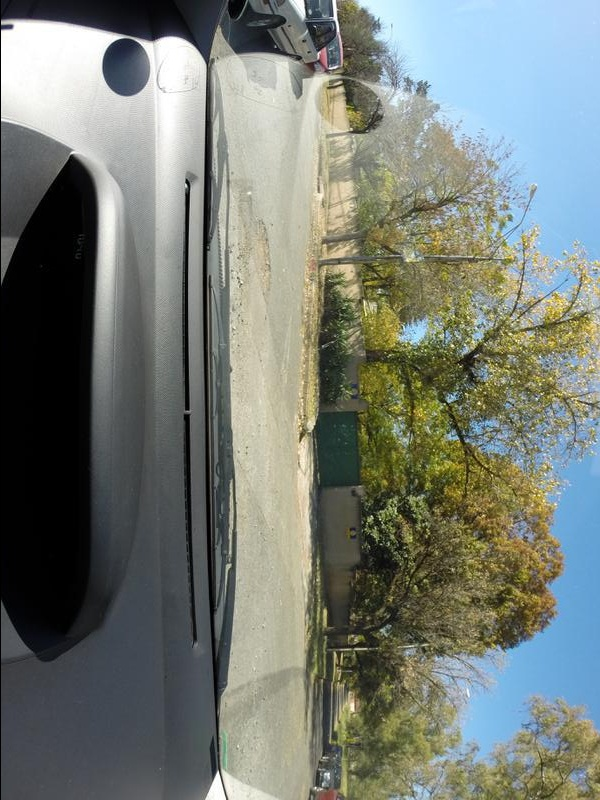pothole: (250, 213, 273, 311), (232, 185, 255, 281)
